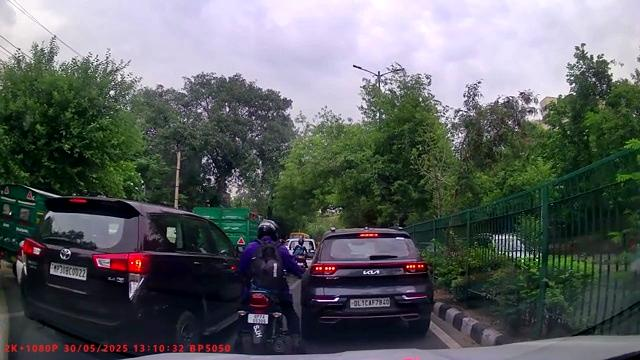motorcycle_with_helmet: (236, 217, 304, 351)
